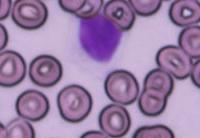L: (68, 13, 127, 64)
